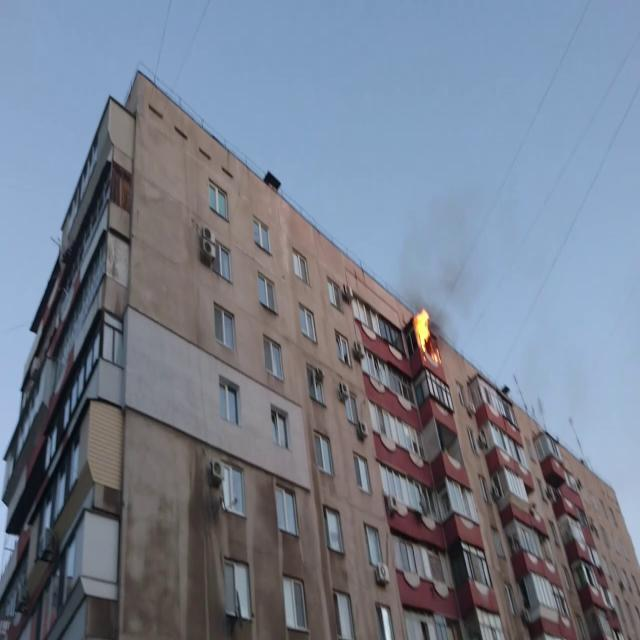Fire: (411, 300, 433, 357)
Smoke: (397, 184, 490, 348)
